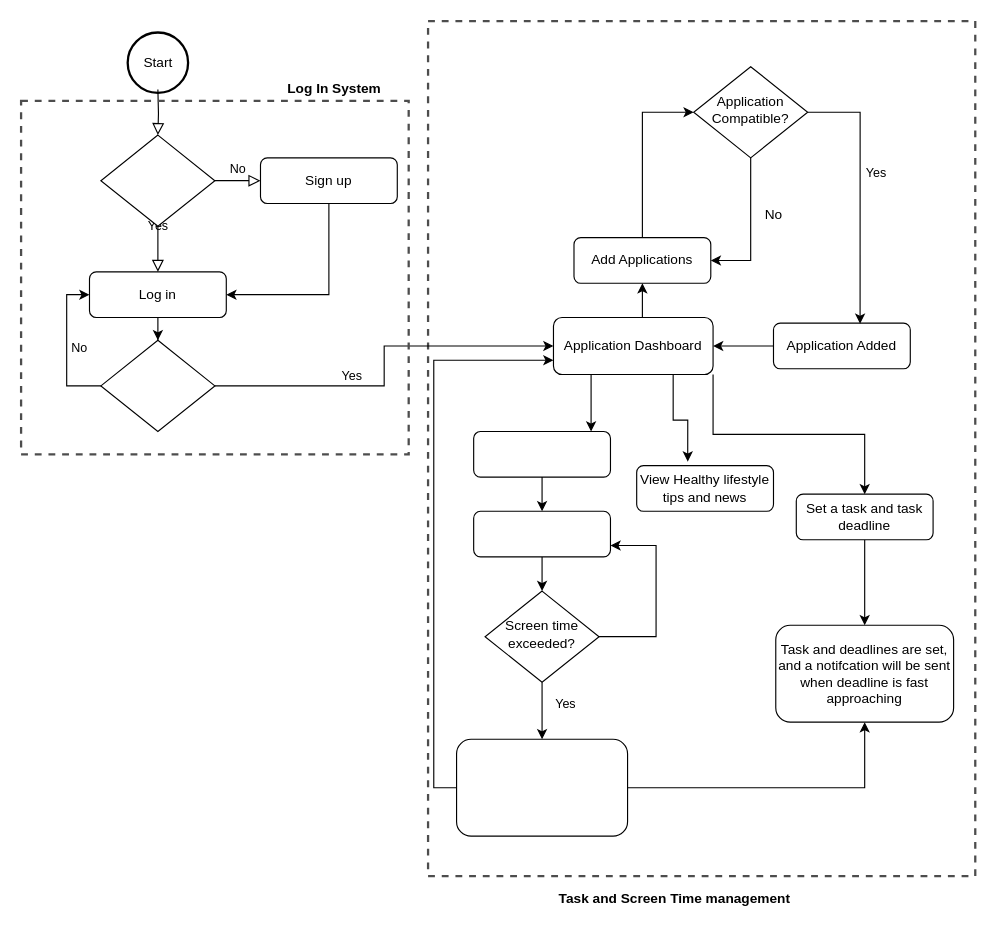
Image size: 995x929. Some labels were removed from this diagram. The centre of each missing label's shape, as x and y in pixels:
"Login information is valid?" goes at [157,385].
"Notification is sent to user to remind them of a prolonged screen time" goes at [541,787].
"Set Screen Time Limit" goes at [541,453].
"Use Device" goes at [541,533].
"User has an account?" goes at [157,180].
